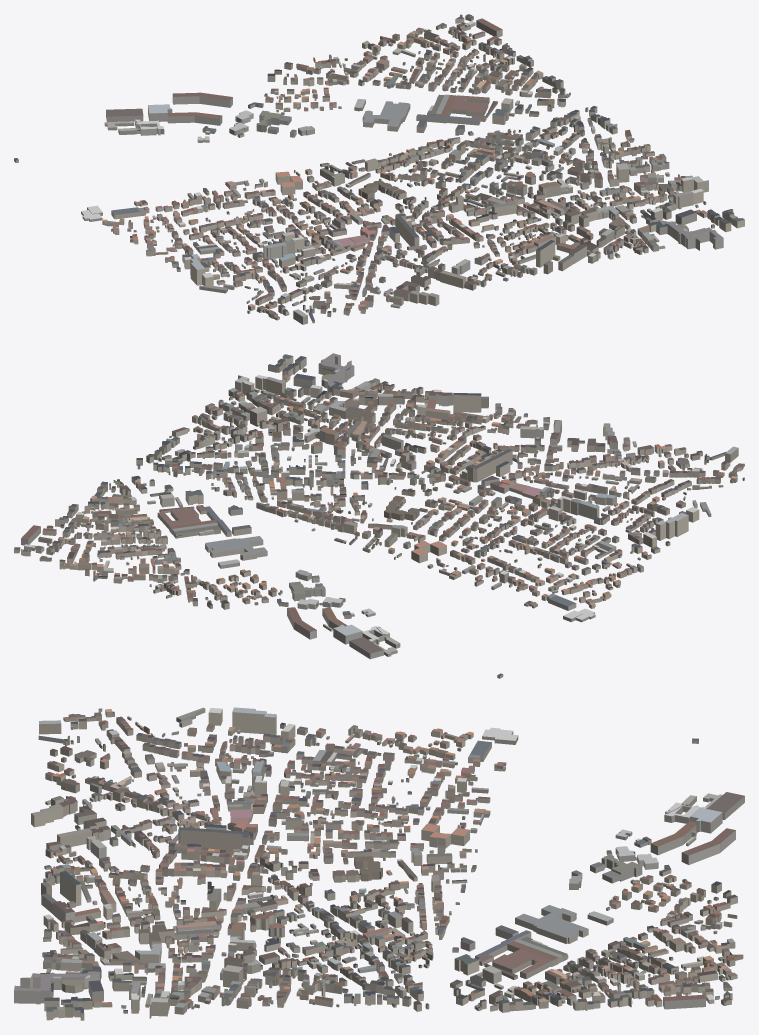
3 renders of one model, top to bottom at view 1: azimuth 30°, elevation 25°; view 2: azimuth 150°, elevation 25°; view 3: azimuth 270°, elevation 25°, orthographic. The views are drawn at different scales.
Parts seen in each view (by area): view 1: tuile; view 2: tuile; view 3: tuile.
Boxes of the visible parts, left/top/right/bottom form: tuile: left=14, top=14, right=744, bottom=324; tuile: left=14, top=353, right=744, bottom=678; tuile: left=14, top=707, right=744, bottom=1020.
Size of the model in its own units: 1032 by 60.3 by 1062.
